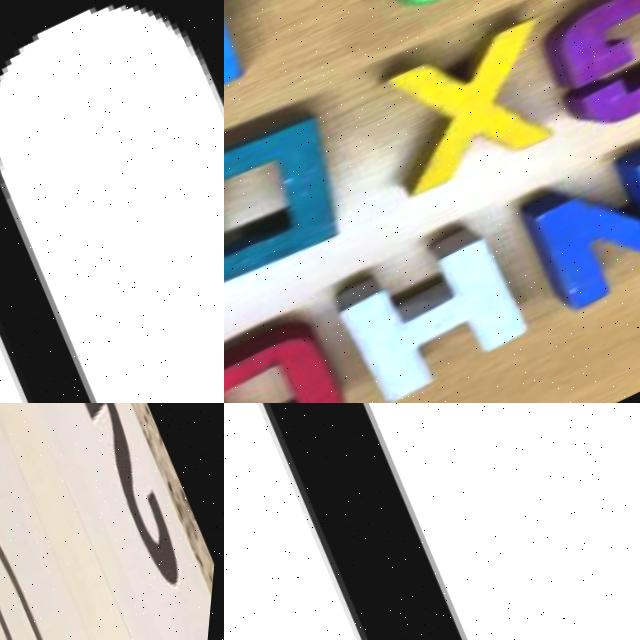2: (49, 403, 217, 600)
D: (224, 88, 385, 319)
G: (522, 0, 640, 147)
H: (322, 215, 548, 403)
I: (224, 403, 538, 640)
J: (224, 0, 367, 118)
N: (504, 126, 640, 321)
O: (224, 292, 382, 403)
U: (0, 0, 224, 403)
X: (333, 0, 592, 220)
